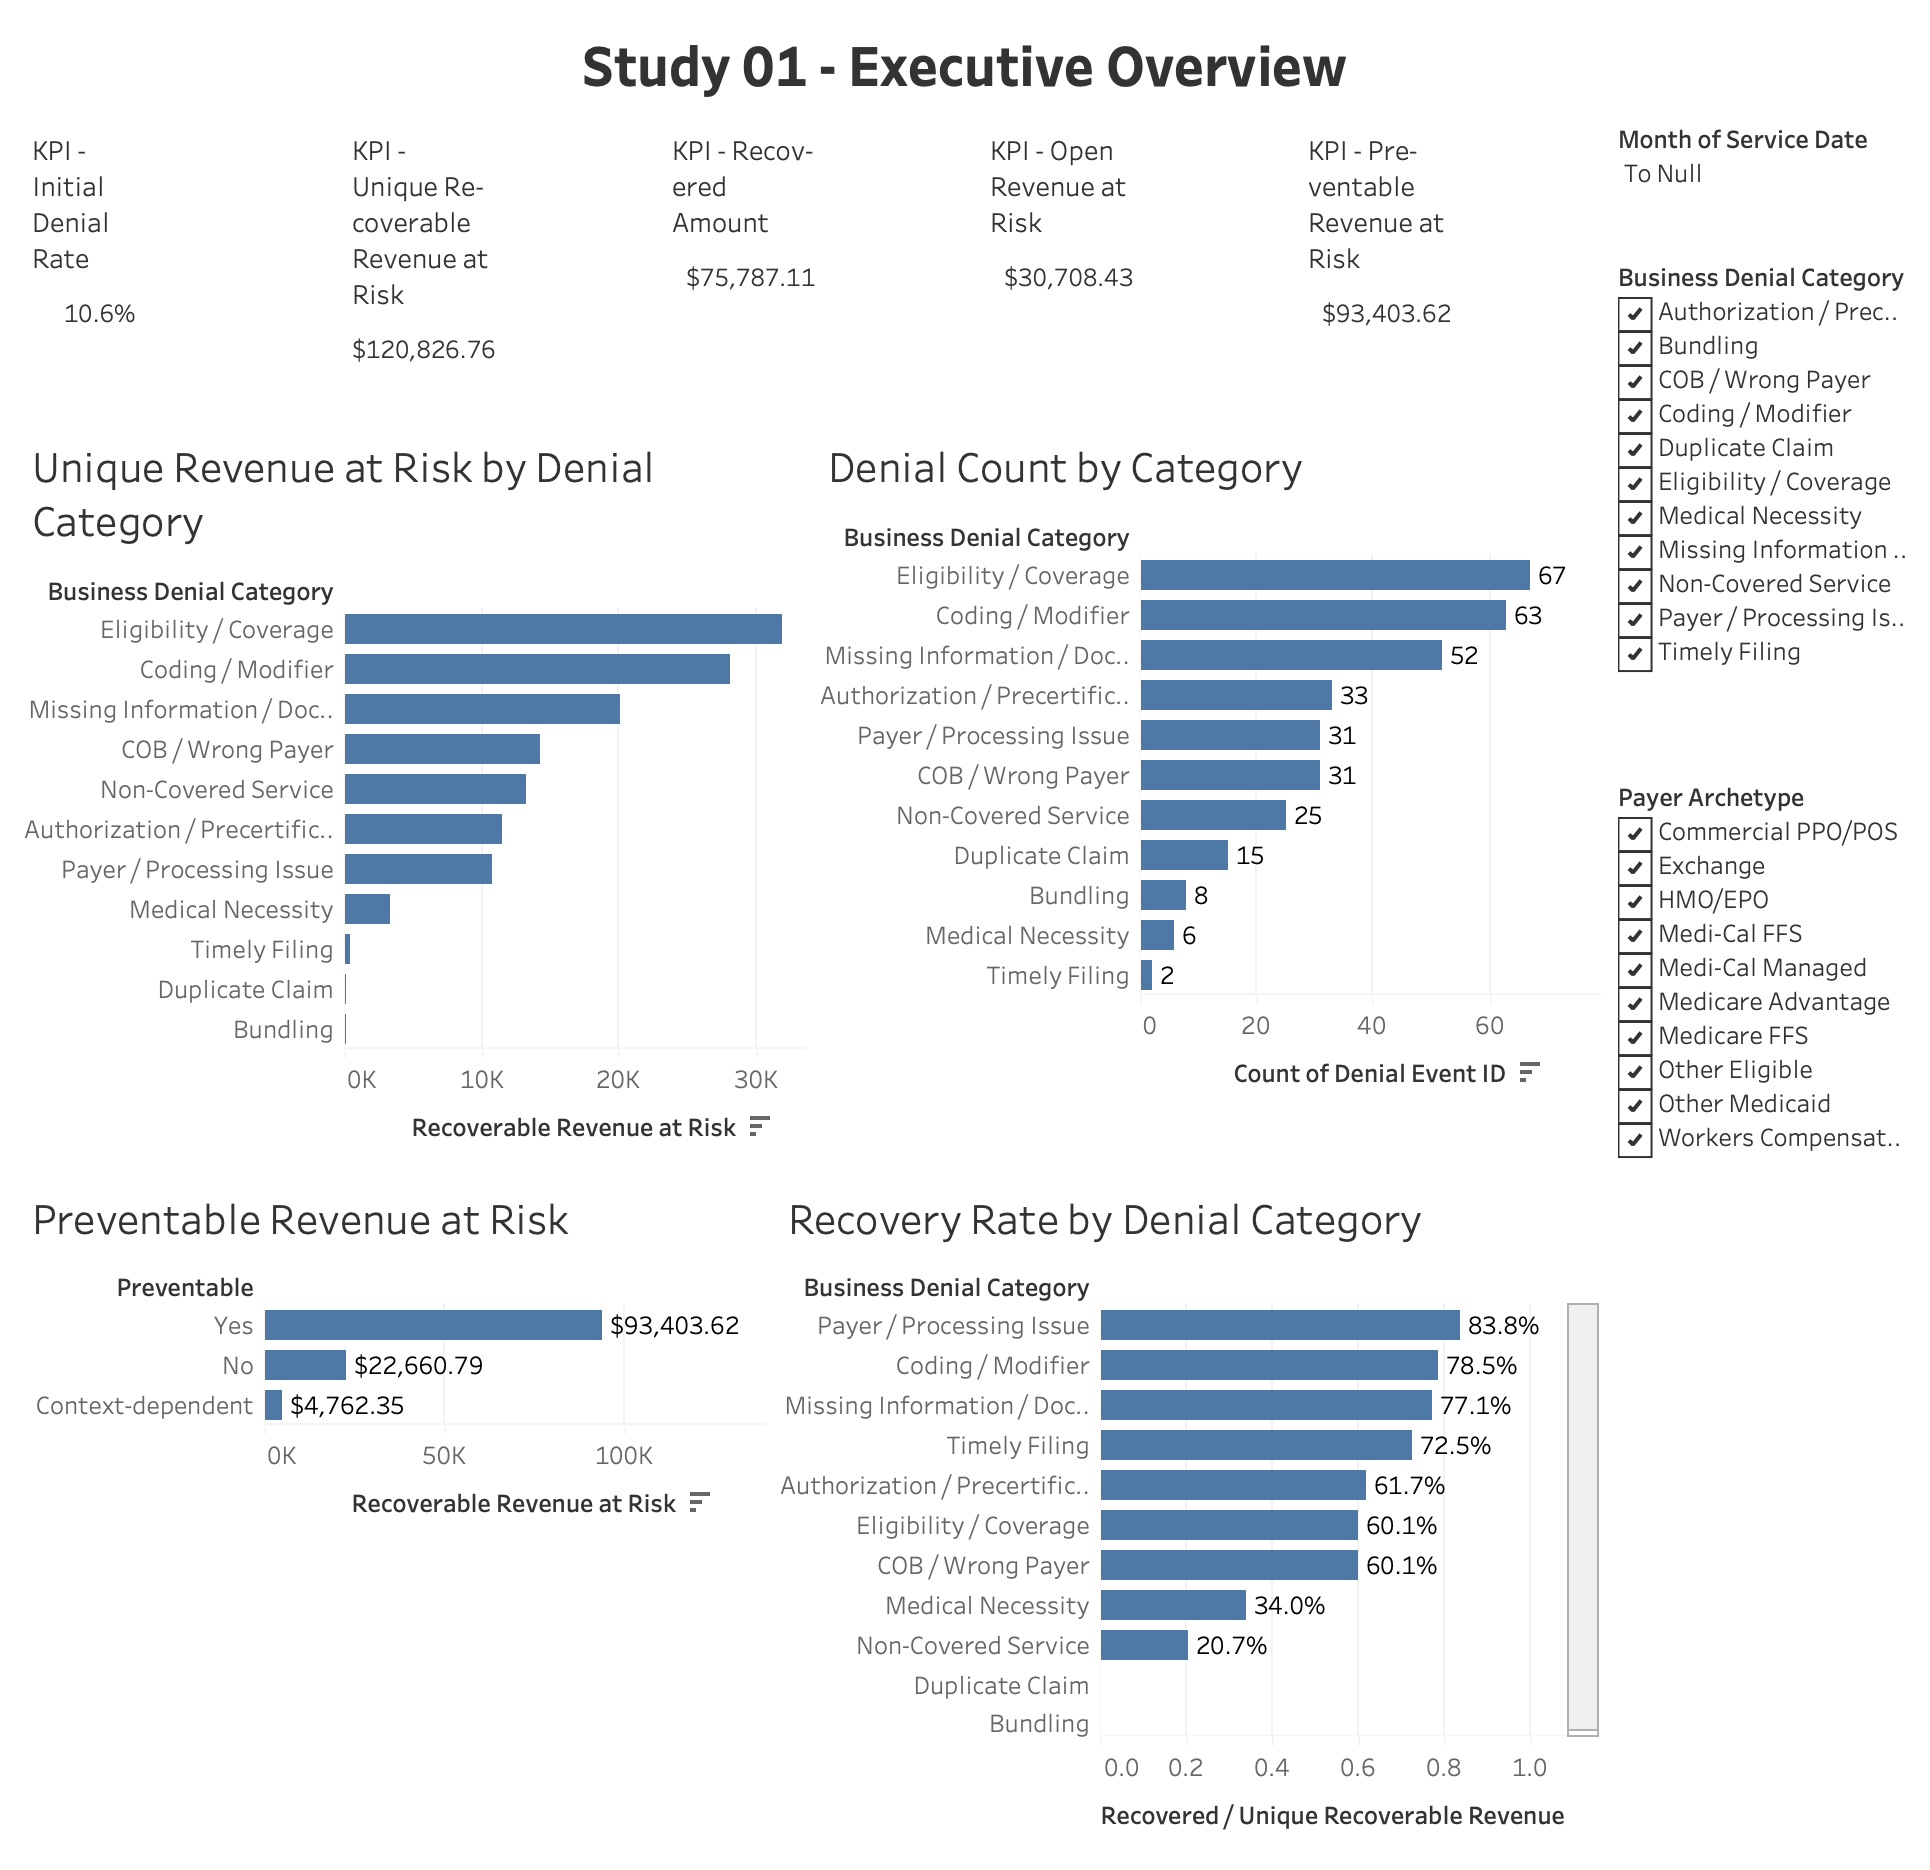

What the dashboard file says about the page in this screenshot:
{"tool":"tableau","page":{"name":"Executive Overview","canvas":[1000,1000],"units":"permille","ordinal":0},"visuals":[{"type":"text","box":[7.5,8.1,985,51.6]},{"type":"worksheet","title":"KPI 1","mark":"Automatic","box":[7.5,59.7,165.4,164]},{"type":"worksheet","title":"KPI 2","mark":"Automatic","box":[172.9,59.7,165.4,164]},{"type":"worksheet","title":"KPI 3","mark":"Automatic","box":[338.4,59.7,165.4,164]},{"type":"worksheet","title":"KPI 4","mark":"Automatic","box":[503.8,59.7,165.4,164]},{"type":"worksheet","title":"KPI 5","mark":"Automatic","box":[669.2,59.7,165.4,164]},{"type":"filter","title":"Denial Count","param":"[federated.1i9lzmo18komtd14ppbqi0wcqm1b].[tmn:Service Date:qk]","box":[834.3,59.7,158.2,69.8]},{"type":"filter","title":"Unique Revenue","param":"[federated.1i9lzmo18komtd14ppbqi0wcqm1b].[none:Business Denial Category:nk]","box":[834.3,129.6,158.2,263.2]},{"type":"worksheet","title":"Unique Revenue","mark":"Automatic","rows":["Business Denial Category"],"cols":["Recoverable Revenue at Risk"],"box":[7.5,223.7,413.4,401.8]},{"type":"worksheet","title":"Denial Count","mark":"Automatic","rows":["Business Denial Category"],"cols":["Denial Event ID"],"box":[420.9,223.7,413.4,401.8]},{"type":"filter","title":"Denial Count","param":"[federated.1i9lzmo18komtd14ppbqi0wcqm1b].[none:Payer Archetype:nk]","box":[834.3,392.7,158.2,243.9]},{"type":"worksheet","title":"Preventable Revenue","mark":"Automatic","rows":["Preventable"],"cols":["Recoverable Revenue at Risk"],"box":[7.5,625.5,394.6,366.4]},{"type":"worksheet","title":"Recovery Rate","mark":"Automatic","rows":["Business Denial Category"],"cols":["Calculation_0178534140522525"],"box":[402.1,625.5,432.2,366.4]}]}

Visuals, with their boxes on the dashboard's canvas, which has no fixed pixel size, in thousandths of its width and height (x1, y1, x2, y2). These are canvas units, not pixel positions in the 1930x1870 screenshot, which may show the page scaled, cropped or inside an application window:
text: region(8, 8, 992, 60)
"KPI 1" worksheet: region(8, 60, 173, 224)
"KPI 2" worksheet: region(173, 60, 338, 224)
"KPI 3" worksheet: region(338, 60, 504, 224)
"KPI 4" worksheet: region(504, 60, 669, 224)
"KPI 5" worksheet: region(669, 60, 835, 224)
"Denial Count" filter: region(834, 60, 992, 130)
"Unique Revenue" filter: region(834, 130, 992, 393)
"Unique Revenue" worksheet: region(8, 224, 421, 626)
"Denial Count" worksheet: region(421, 224, 834, 626)
"Denial Count" filter: region(834, 393, 992, 637)
"Preventable Revenue" worksheet: region(8, 626, 402, 992)
"Recovery Rate" worksheet: region(402, 626, 834, 992)
